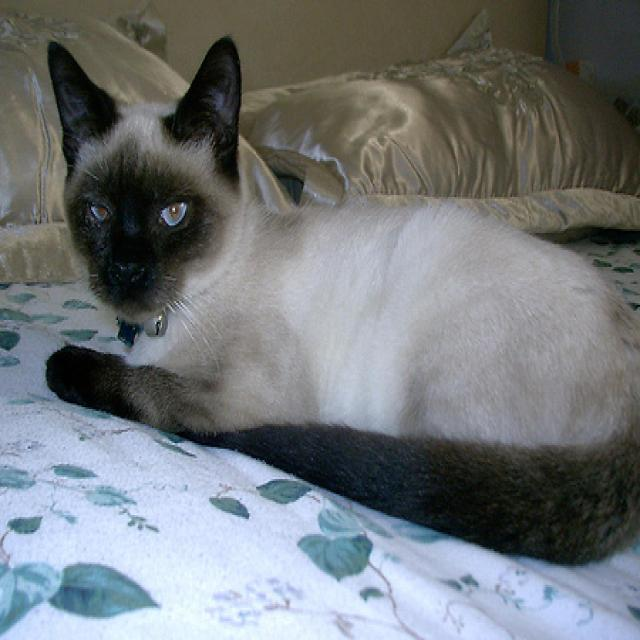Siamese: (41, 32, 640, 572)
